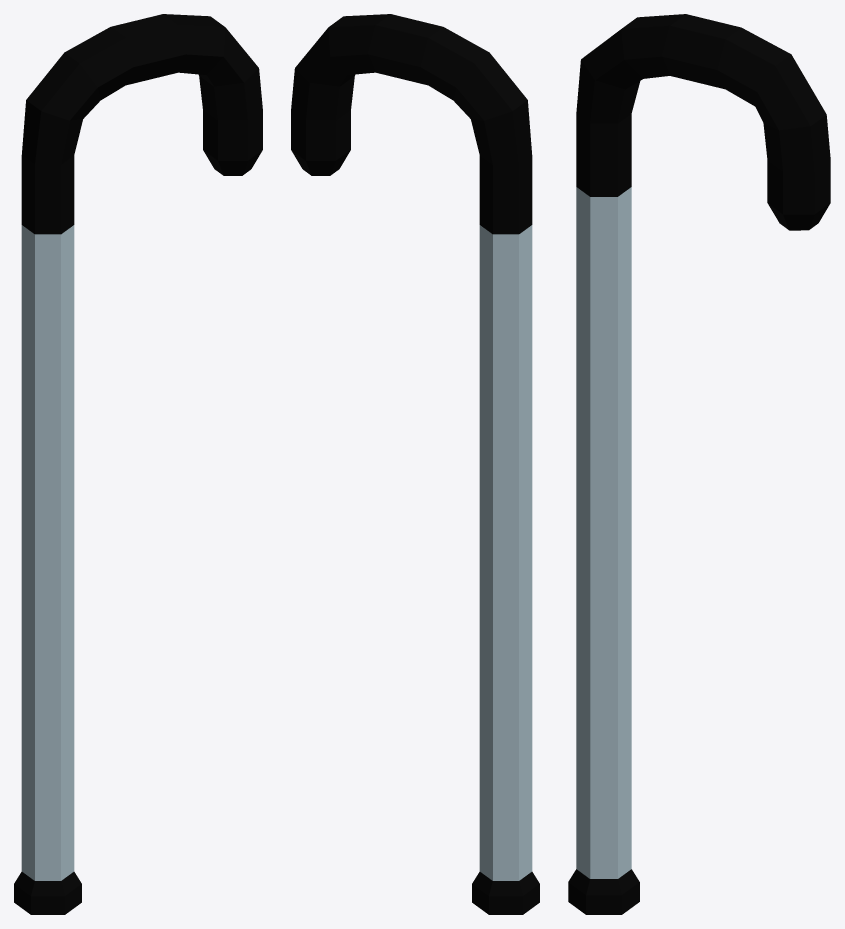
File: old_walking_stick1.fbx
3 views of the same model, side by side, from view 1: azimuth 30°, elevation 25°; view 2: azimuth 150°, elevation 25°; view 3: azimuth 330°, elevation 25° (orthographic). The views are drawn at different scales.
Parts seen in each view (by area): view 1: walking_stick; view 2: walking_stick; view 3: walking_stick.
Boxes of the visible parts, x1,y1,x2,y2 form: walking_stick: [14, 14, 262, 914]; walking_stick: [291, 14, 539, 914]; walking_stick: [568, 14, 830, 914].
Bounding box in the file's own units: 83.07 × 291 × 20.98.
1 material, 1 textured.
